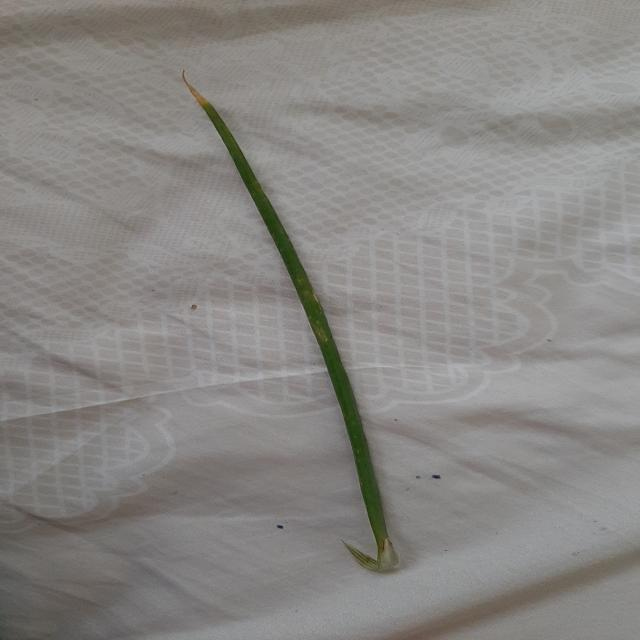onion: (182, 74, 398, 572)
